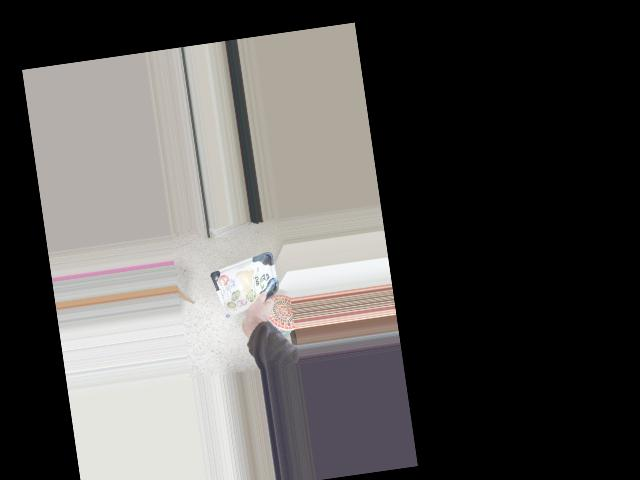cheese: (208, 255, 285, 313)
